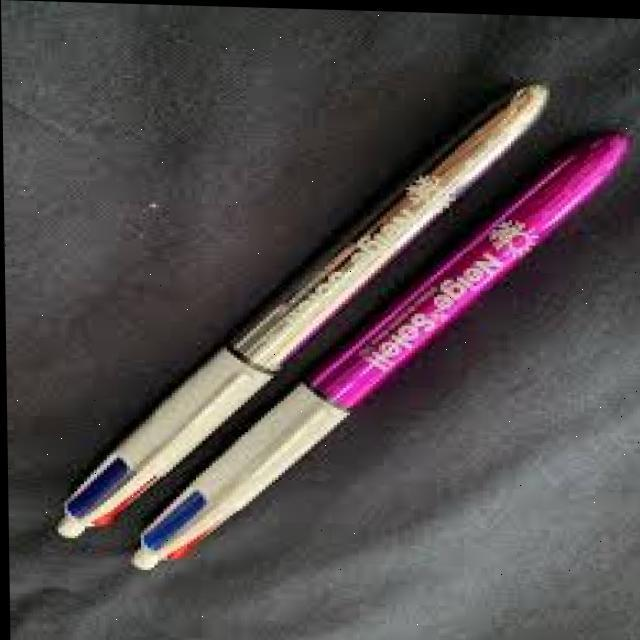Pen - Non Recyclable: (124, 112, 640, 581), (53, 69, 555, 545)
